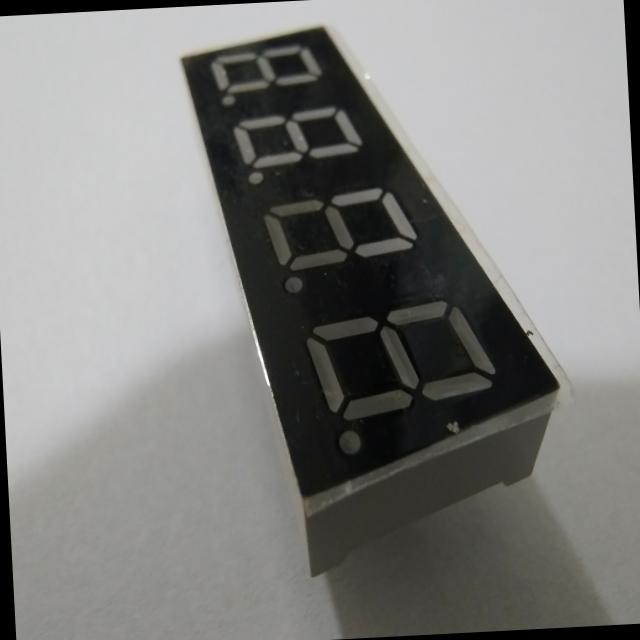7_segments_4_digits: (170, 7, 580, 591)
